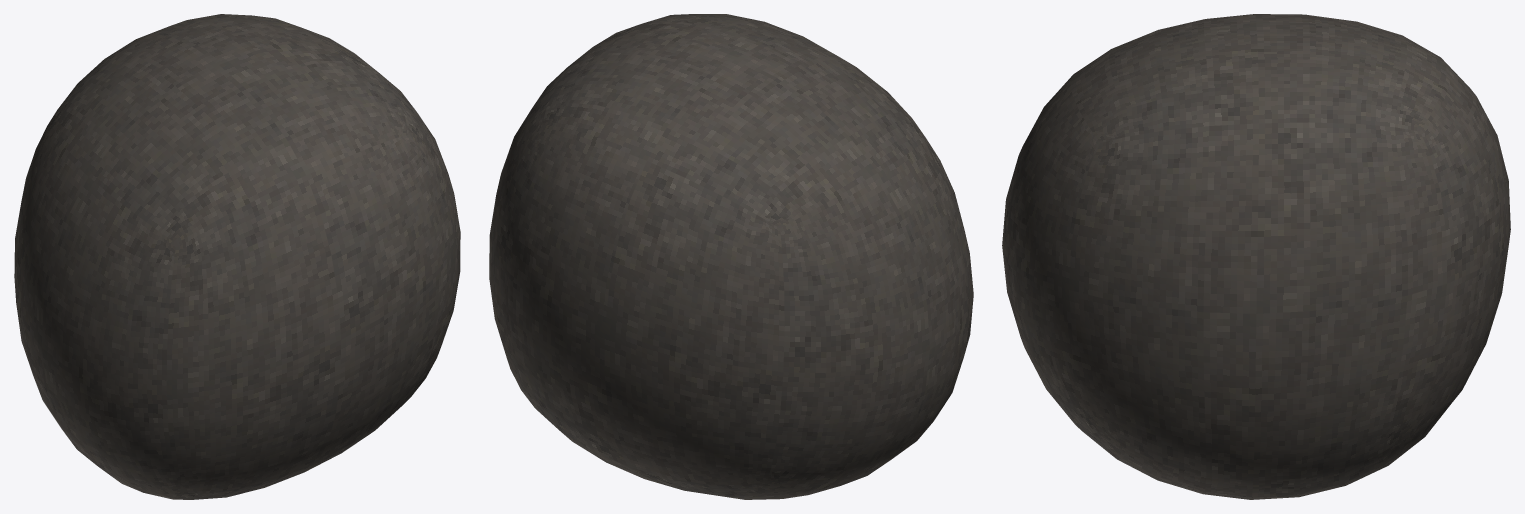
File: rock4.glb
3 renders of one model, left to right at view 1: azimuth 30°, elevation 25°; view 2: azimuth 150°, elevation 25°; view 3: azimuth 270°, elevation 25°, orthographic. The views are drawn at different scales.
Parts seen in each view (by area): view 1: Rock4; view 2: Rock4; view 3: Rock4.
Part boxes in pixels (x1,y1,x2,y2): Rock4: (14, 14, 460, 499); Rock4: (489, 14, 973, 499); Rock4: (1002, 14, 1510, 499).
Size of the model in its own units: 5.02 by 5.04 by 5.16.
Materials: 1 (1 with a texture image).
